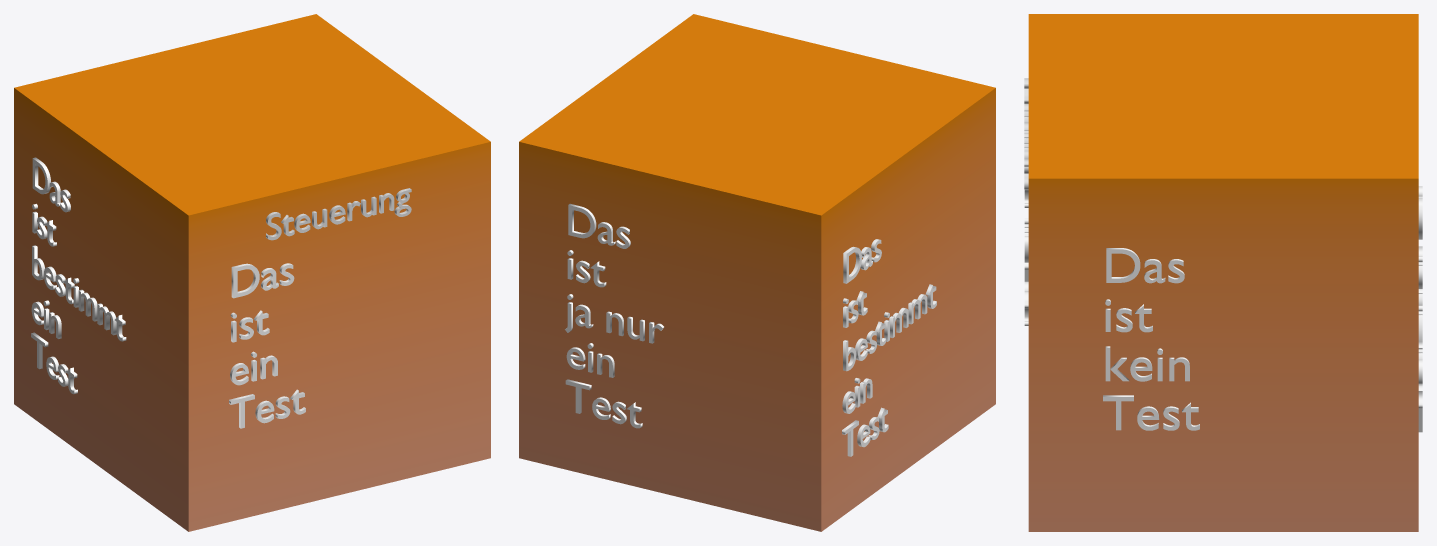
File: Steuerungsbox.glb
3 views of the same model, side by side, from view 1: azimuth 30°, elevation 25°; view 2: azimuth 150°, elevation 25°; view 3: azimuth 270°, elevation 25° (orthographic). The views are drawn at different scales.
Visible parts, largest first — view 1: Cube.001, T2 Linke Seite.001, T1 Frontseite, Text; view 2: Cube.001, T2 Linke Seite.001, T2 Linke Seite.002; view 3: Cube.001, T2 Rechte Seite, T2 Linke Seite.002, T1 Frontseite, Text.
Boxes of the visible parts, bbox=[...] form: Cube.001: bbox=[14, 14, 490, 531]; T2 Linke Seite.001: bbox=[31, 157, 126, 394]; T1 Frontseite: bbox=[229, 263, 305, 428]; Text: bbox=[266, 188, 411, 240]; Cube.001: bbox=[519, 14, 995, 531]; T2 Linke Seite.001: bbox=[842, 239, 936, 456]; T2 Linke Seite.002: bbox=[565, 203, 663, 428]; Cube.001: bbox=[1028, 14, 1418, 531]; T2 Rechte Seite: bbox=[1103, 248, 1199, 430]; T2 Linke Seite.002: bbox=[1418, 186, 1422, 432]; T1 Frontseite: bbox=[1024, 189, 1028, 325]; Text: bbox=[1024, 78, 1028, 189].
Size of the model in its own units: 2.04 by 2 by 2.04.
5 materials, 1 textured.
